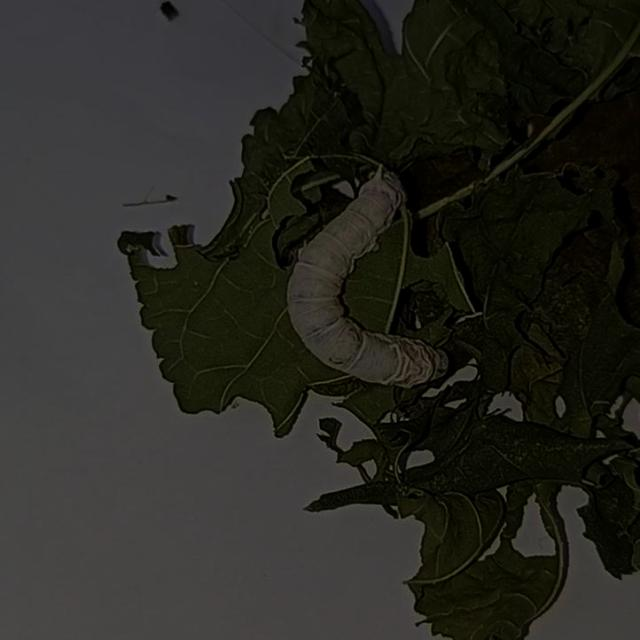Healthy: (257, 142, 467, 402)
